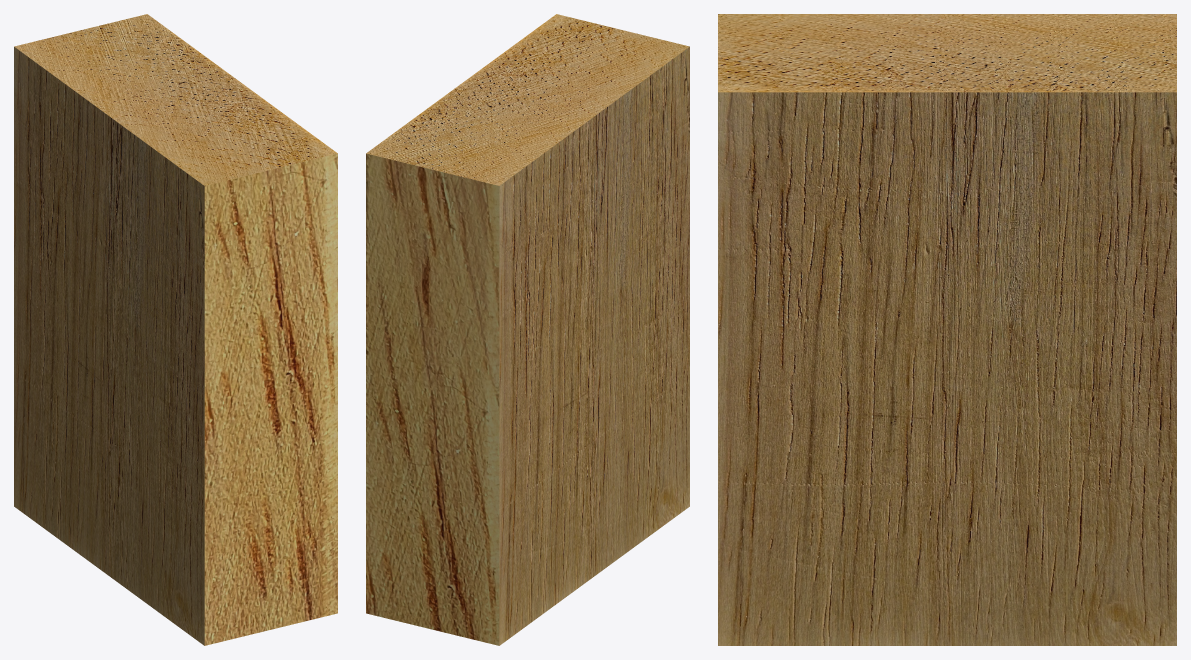
Rendered from getah.glb.
3 renders of one model, left to right at view 1: azimuth 30°, elevation 25°; view 2: azimuth 150°, elevation 25°; view 3: azimuth 270°, elevation 25°, orthographic. The views are drawn at different scales.
Visible parts, largest first — view 1: BothSides; view 2: BothSides; view 3: BothSides.
Part boxes in pixels (x1,y1,x2,y2): BothSides: (14, 14, 337, 645); BothSides: (366, 14, 689, 645); BothSides: (718, 14, 1176, 645).
Bounding box in the file's own units: 1.04 × 3.44 × 2.58.
Materials: 3 (3 with a texture image).
